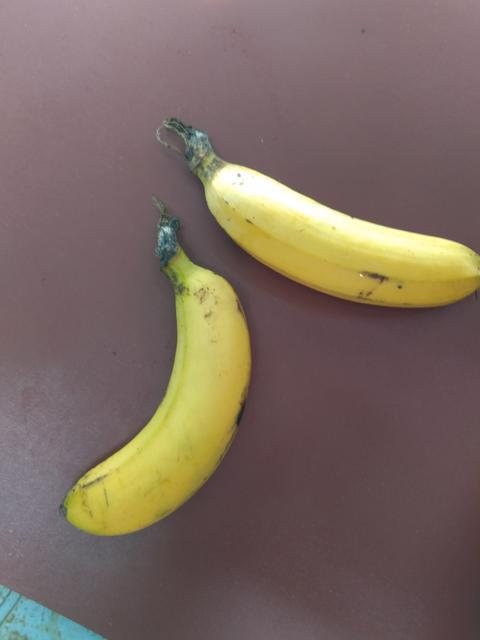freshripe: (45, 262, 255, 569), (176, 134, 479, 318)
